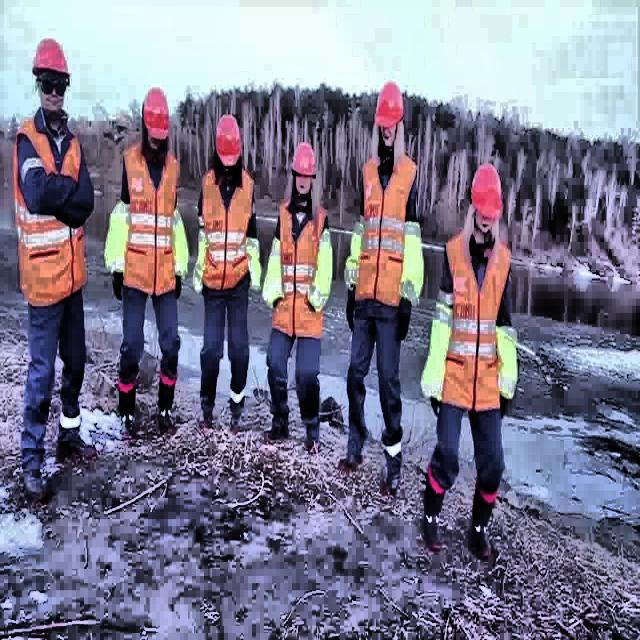safety_helmet: (472, 166, 502, 222), (142, 89, 170, 143), (32, 39, 70, 76), (373, 84, 402, 127), (216, 116, 240, 167), (290, 144, 314, 178)
safety_jacket: (15, 116, 87, 311), (439, 231, 512, 412), (352, 153, 419, 307), (122, 146, 180, 298), (269, 206, 329, 342), (200, 168, 253, 290)
